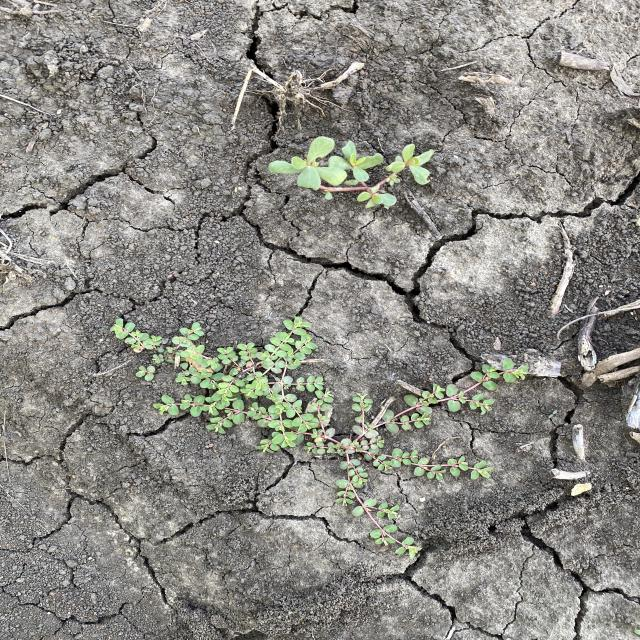Purslane: (263, 135, 436, 210)
SpottedSpurge: (108, 313, 533, 560)
